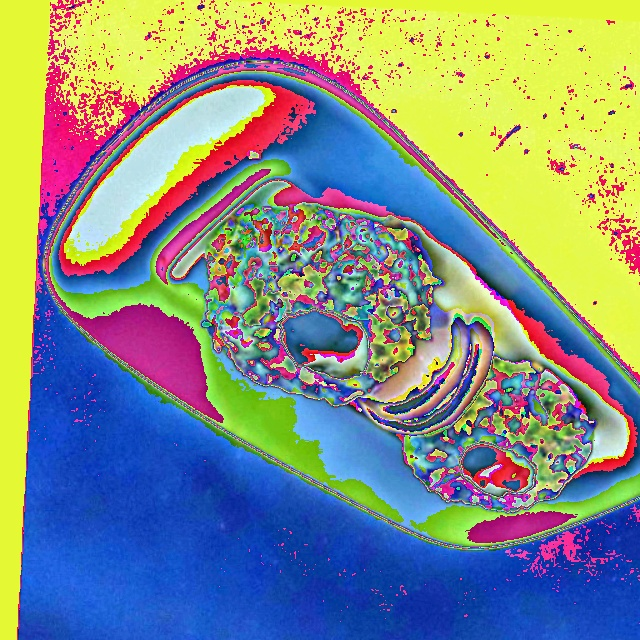background: (199, 202, 596, 513)
